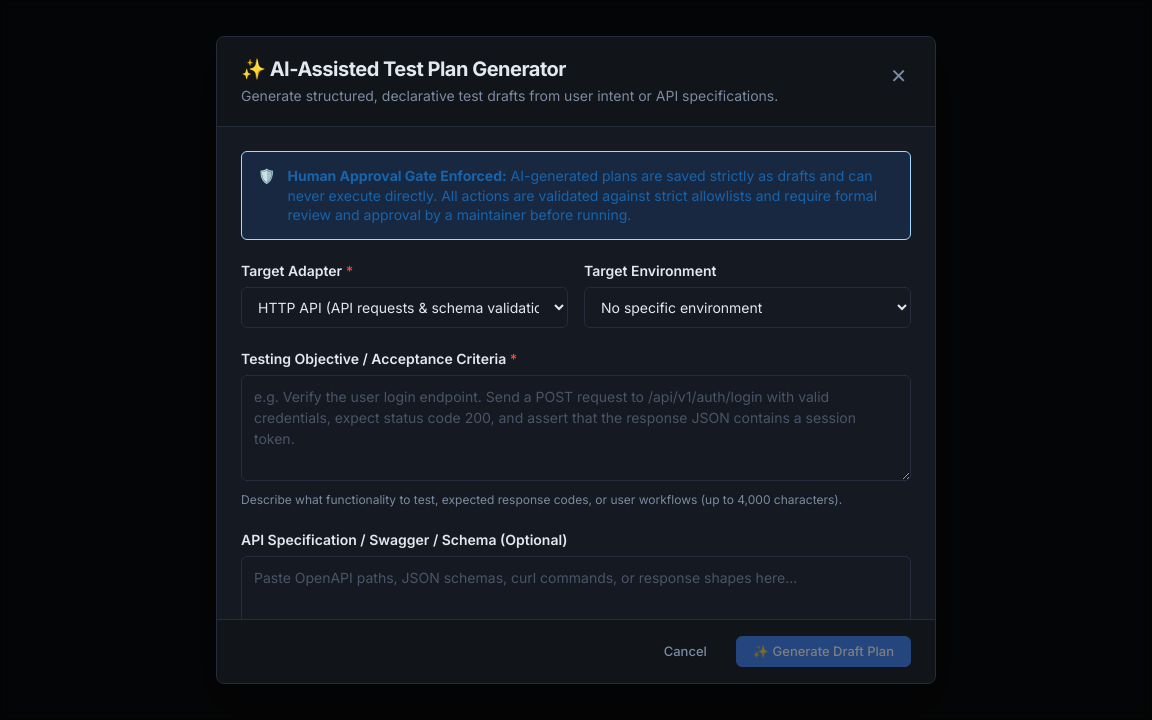
Test case: AIGeneratePlanModal › displays prominent warning when policy blocks dangerous or unallowlisted steps
Step 1. Replace the text in the text box labelled "Testing Objective / Acceptance Criteria *" with "Run safe and dangerous actions" → (576, 428), box top-left (241, 375), bottom-right (911, 481)
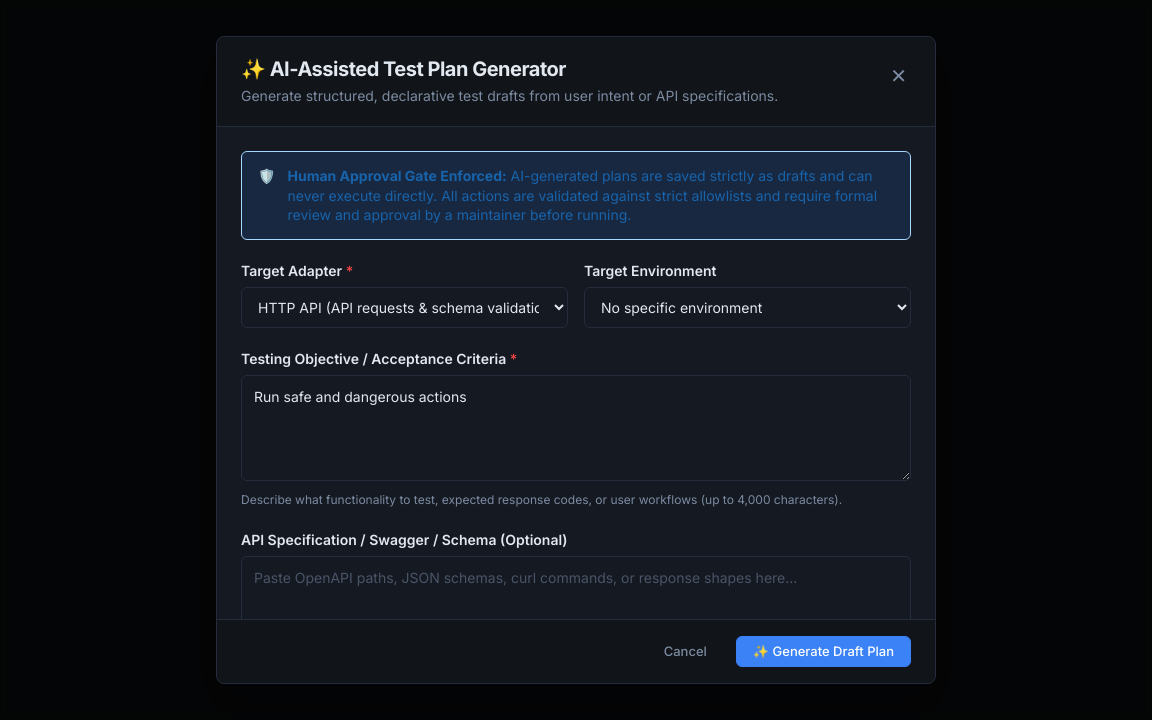
Step 2. Click the button "✨ Generate Draft Plan" → (823, 652), box top-left (736, 636), bottom-right (911, 667)
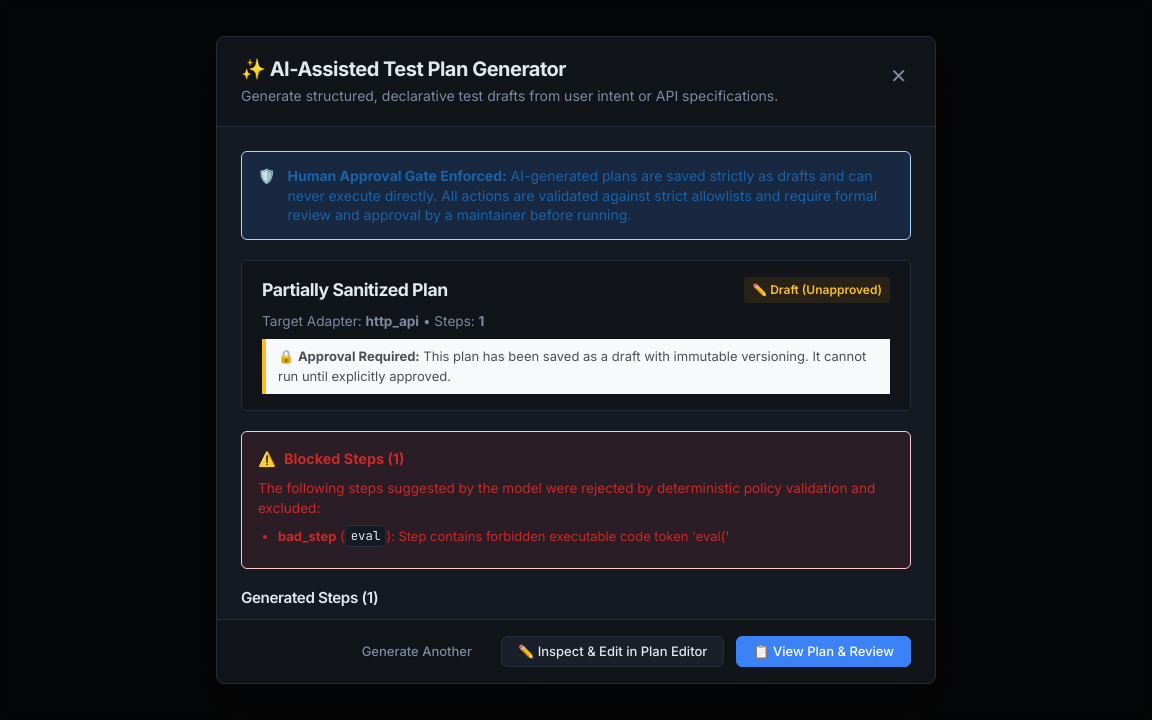
Now the text "⚠️ Blocked Steps (1)" is shown, box top-left (258, 450), bottom-right (404, 467)
Now the list item "Step contains forbidden executable code token 'eval('" is shown, box top-left (398, 528), bottom-right (729, 544)
